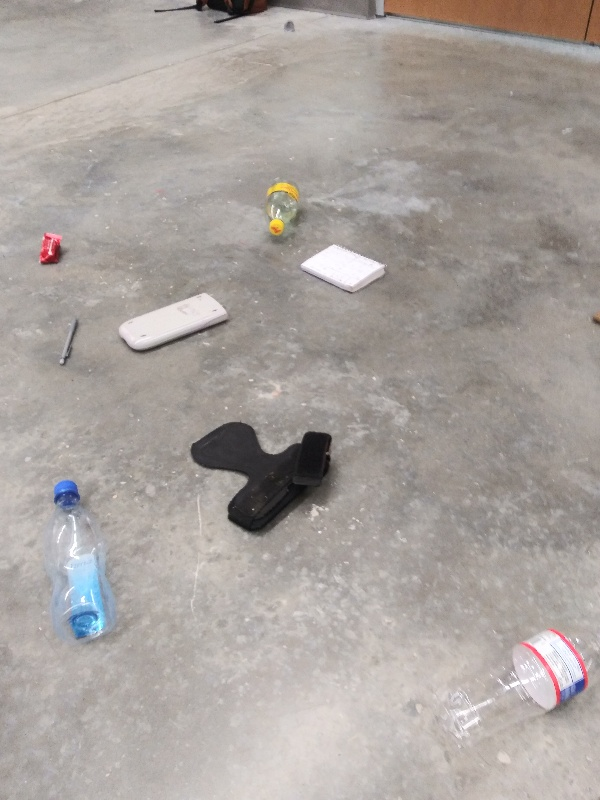bottle: (441, 621, 600, 744), (44, 478, 119, 644), (259, 173, 306, 239)
